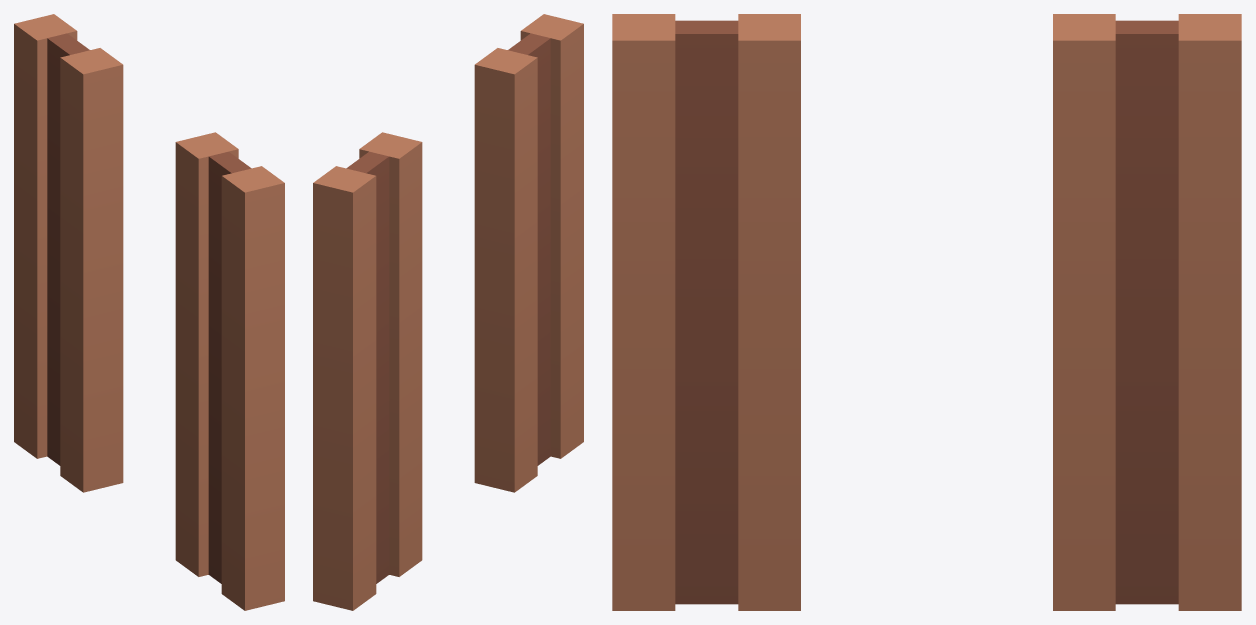
File: gate-kn-wall-wood-doorway-base.glb
The picture shows the model from 3 angles, left to right: view 1: azimuth 30°, elevation 25°; view 2: azimuth 150°, elevation 25°; view 3: azimuth 270°, elevation 25°; orthographic projection. The views are drawn at different scales.
Parts seen in each view (by area): view 1: wall-wood-doorway-base; view 2: wall-wood-doorway-base; view 3: wall-wood-doorway-base.
Part boxes in pixels (box(x1,y1,x2,y2)): wall-wood-doorway-base: box(14, 14, 284, 610); wall-wood-doorway-base: box(313, 14, 583, 610); wall-wood-doorway-base: box(612, 14, 1241, 610).
Bounding box in the file's own units: 0.3 × 3 × 3.
1 material, 1 textured.
